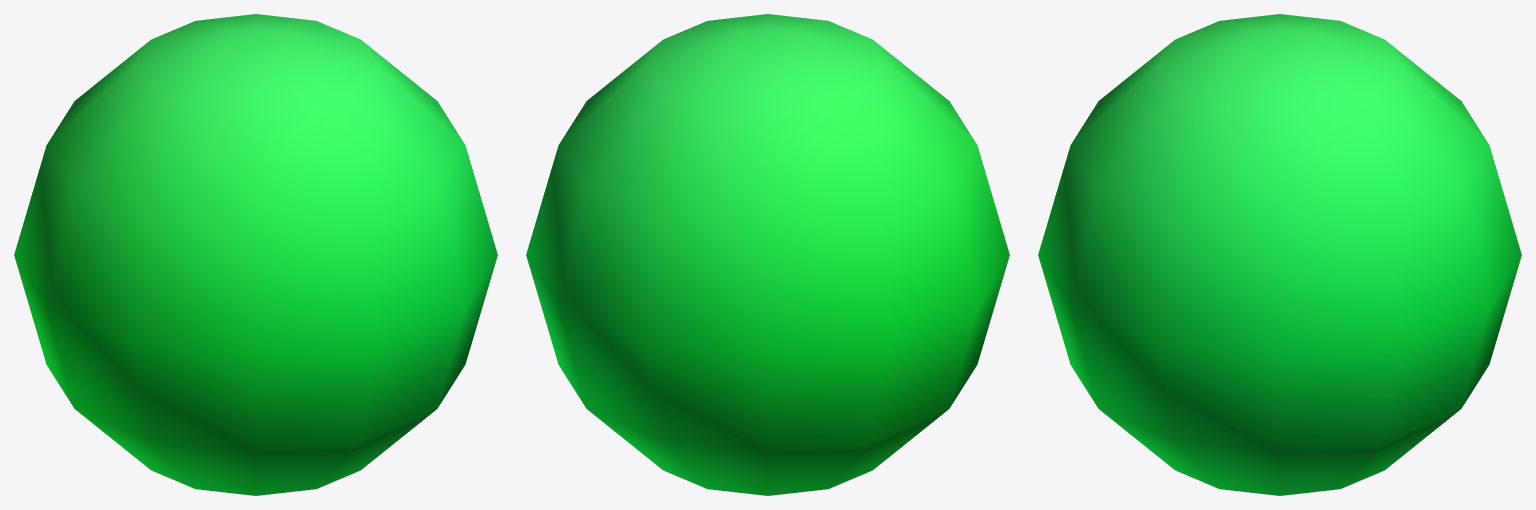
The model's file is Volleyball_D.fbx.
The picture shows the model from 3 angles, left to right: view 1: azimuth 30°, elevation 25°; view 2: azimuth 150°, elevation 25°; view 3: azimuth 270°, elevation 25°; orthographic projection.
Parts seen in each view (by area): view 1: Volleyball_D; view 2: Volleyball_D; view 3: Volleyball_D.
Part boxes in pixels (x1,y1,x2,y2): Volleyball_D: [14, 14, 497, 495]; Volleyball_D: [526, 14, 1009, 495]; Volleyball_D: [1038, 14, 1521, 495].
Size of the model in its own units: 33.6 by 32.1 by 33.6.
